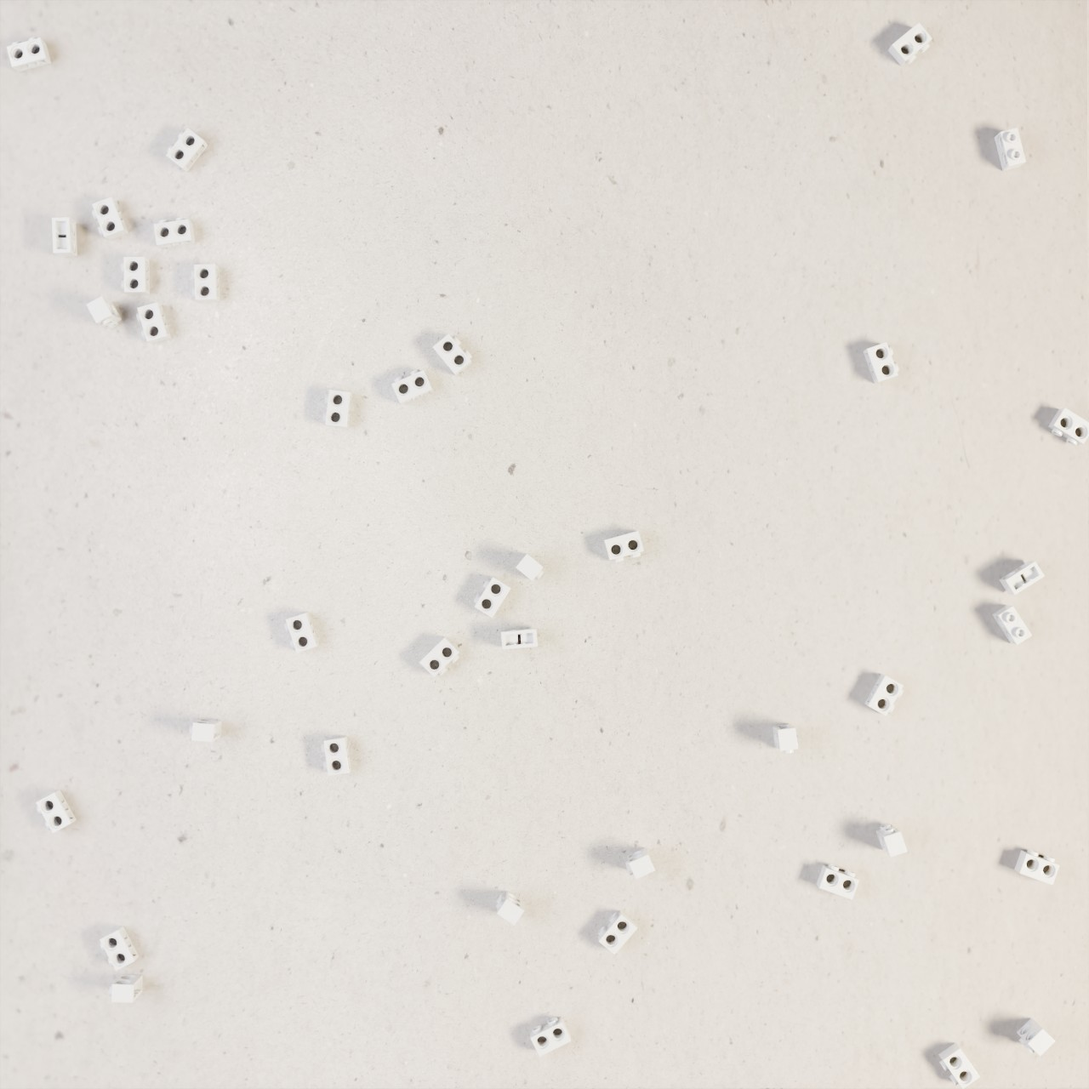lego: (938, 1042, 980, 1089), (888, 22, 932, 66), (166, 128, 208, 173), (36, 790, 77, 834), (99, 926, 139, 971), (598, 910, 637, 955), (419, 636, 460, 677), (864, 674, 904, 716), (432, 334, 472, 376), (6, 37, 52, 73), (1014, 849, 1060, 885), (530, 1017, 571, 1057), (92, 197, 129, 241), (992, 605, 1032, 645), (1048, 407, 1089, 446), (816, 864, 860, 900), (999, 561, 1045, 595), (473, 577, 511, 618), (391, 369, 433, 405), (863, 342, 899, 384), (1017, 1018, 1055, 1057), (136, 302, 171, 344), (284, 612, 319, 653), (994, 128, 1026, 171), (153, 217, 195, 248), (604, 531, 644, 563), (321, 736, 352, 776), (86, 296, 122, 329), (323, 390, 353, 428), (191, 264, 220, 303), (121, 257, 150, 295), (876, 824, 907, 857), (496, 891, 525, 926), (52, 217, 77, 257), (109, 974, 143, 1003), (625, 847, 655, 879), (501, 628, 538, 650), (516, 553, 544, 581), (772, 724, 798, 754), (189, 719, 222, 742)
